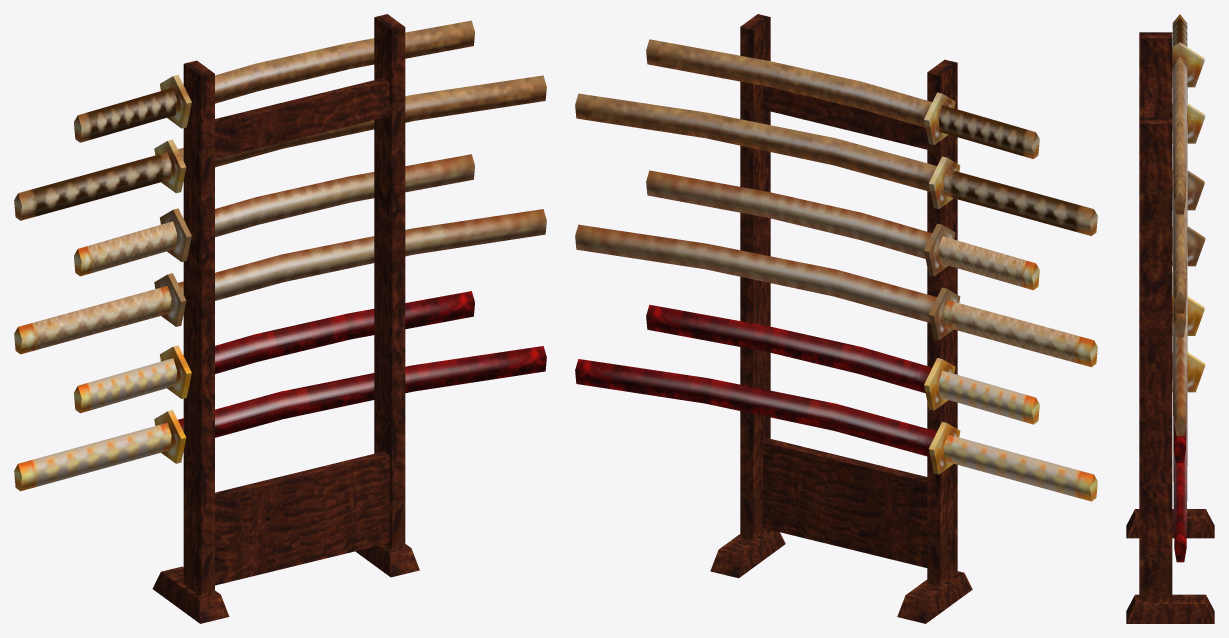
Rendered from swordrack_l2.fbx.
3 renders of one model, left to right at view 1: azimuth 30°, elevation 25°; view 2: azimuth 150°, elevation 25°; view 3: azimuth 270°, elevation 25°, orthographic. The views are drawn at different scales.
Visible parts, largest first — view 1: mesh_3, mesh_2, mesh_8, mesh_4, mesh_6, mesh_0, mesh_1, mesh_5, mesh_7, mesh_9; view 2: mesh_2, mesh_0, mesh_6, mesh_4, mesh_8, mesh_1, mesh_5, mesh_7, mesh_3, mesh_9; view 3: mesh_8, mesh_3, mesh_1, mesh_0, mesh_6, mesh_4, mesh_7, mesh_5, mesh_9.
Part boxes in pixels (<box>): mesh_3: <box>152,60,229,623</box>; mesh_2: <box>215,451,389,585</box>; mesh_8: <box>355,14,419,577</box>; mesh_4: <box>14,209,546,354</box>; mesh_6: <box>14,346,546,491</box>; mesh_0: <box>14,75,546,220</box>; mesh_1: <box>74,20,474,142</box>; mesh_5: <box>74,154,474,276</box>; mesh_7: <box>74,291,474,413</box>; mesh_9: <box>215,78,389,158</box>; mesh_2: <box>762,438,927,567</box>; mesh_0: <box>575,93,1097,235</box>; mesh_6: <box>575,359,1097,501</box>; mesh_4: <box>575,224,1097,367</box>; mesh_8: <box>710,14,785,578</box>; mesh_1: <box>646,39,1039,158</box>; mesh_5: <box>646,170,1039,290</box>; mesh_7: <box>646,304,1039,424</box>; mesh_3: <box>897,59,972,623</box>; mesh_9: <box>762,86,927,149</box>; mesh_8: <box>1126,118,1214,623</box>; mesh_3: <box>1126,32,1214,538</box>; mesh_1: <box>1172,14,1204,214</box>; mesh_0: <box>1172,87,1205,313</box>; mesh_6: <box>1172,340,1205,562</box>; mesh_4: <box>1172,217,1205,436</box>; mesh_7: <box>1172,272,1204,462</box>; mesh_5: <box>1172,146,1204,337</box>; mesh_9: <box>1144,87,1154,117</box>.
Bounding box in the file's own units: 132 × 130 × 20.88.
Materials: 1 (1 with a texture image).
